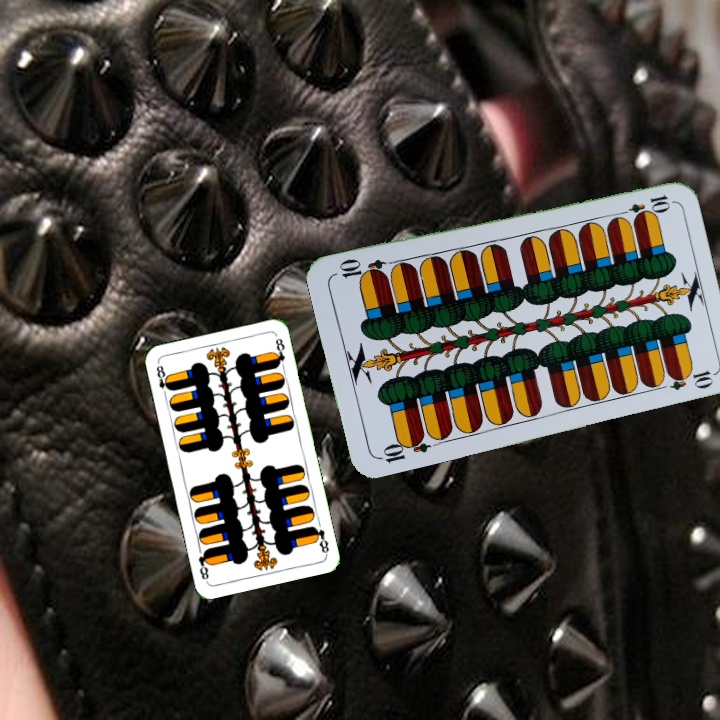E10: (374, 430, 432, 466), (614, 191, 673, 220)
E8: (152, 361, 174, 400), (308, 522, 332, 557)
